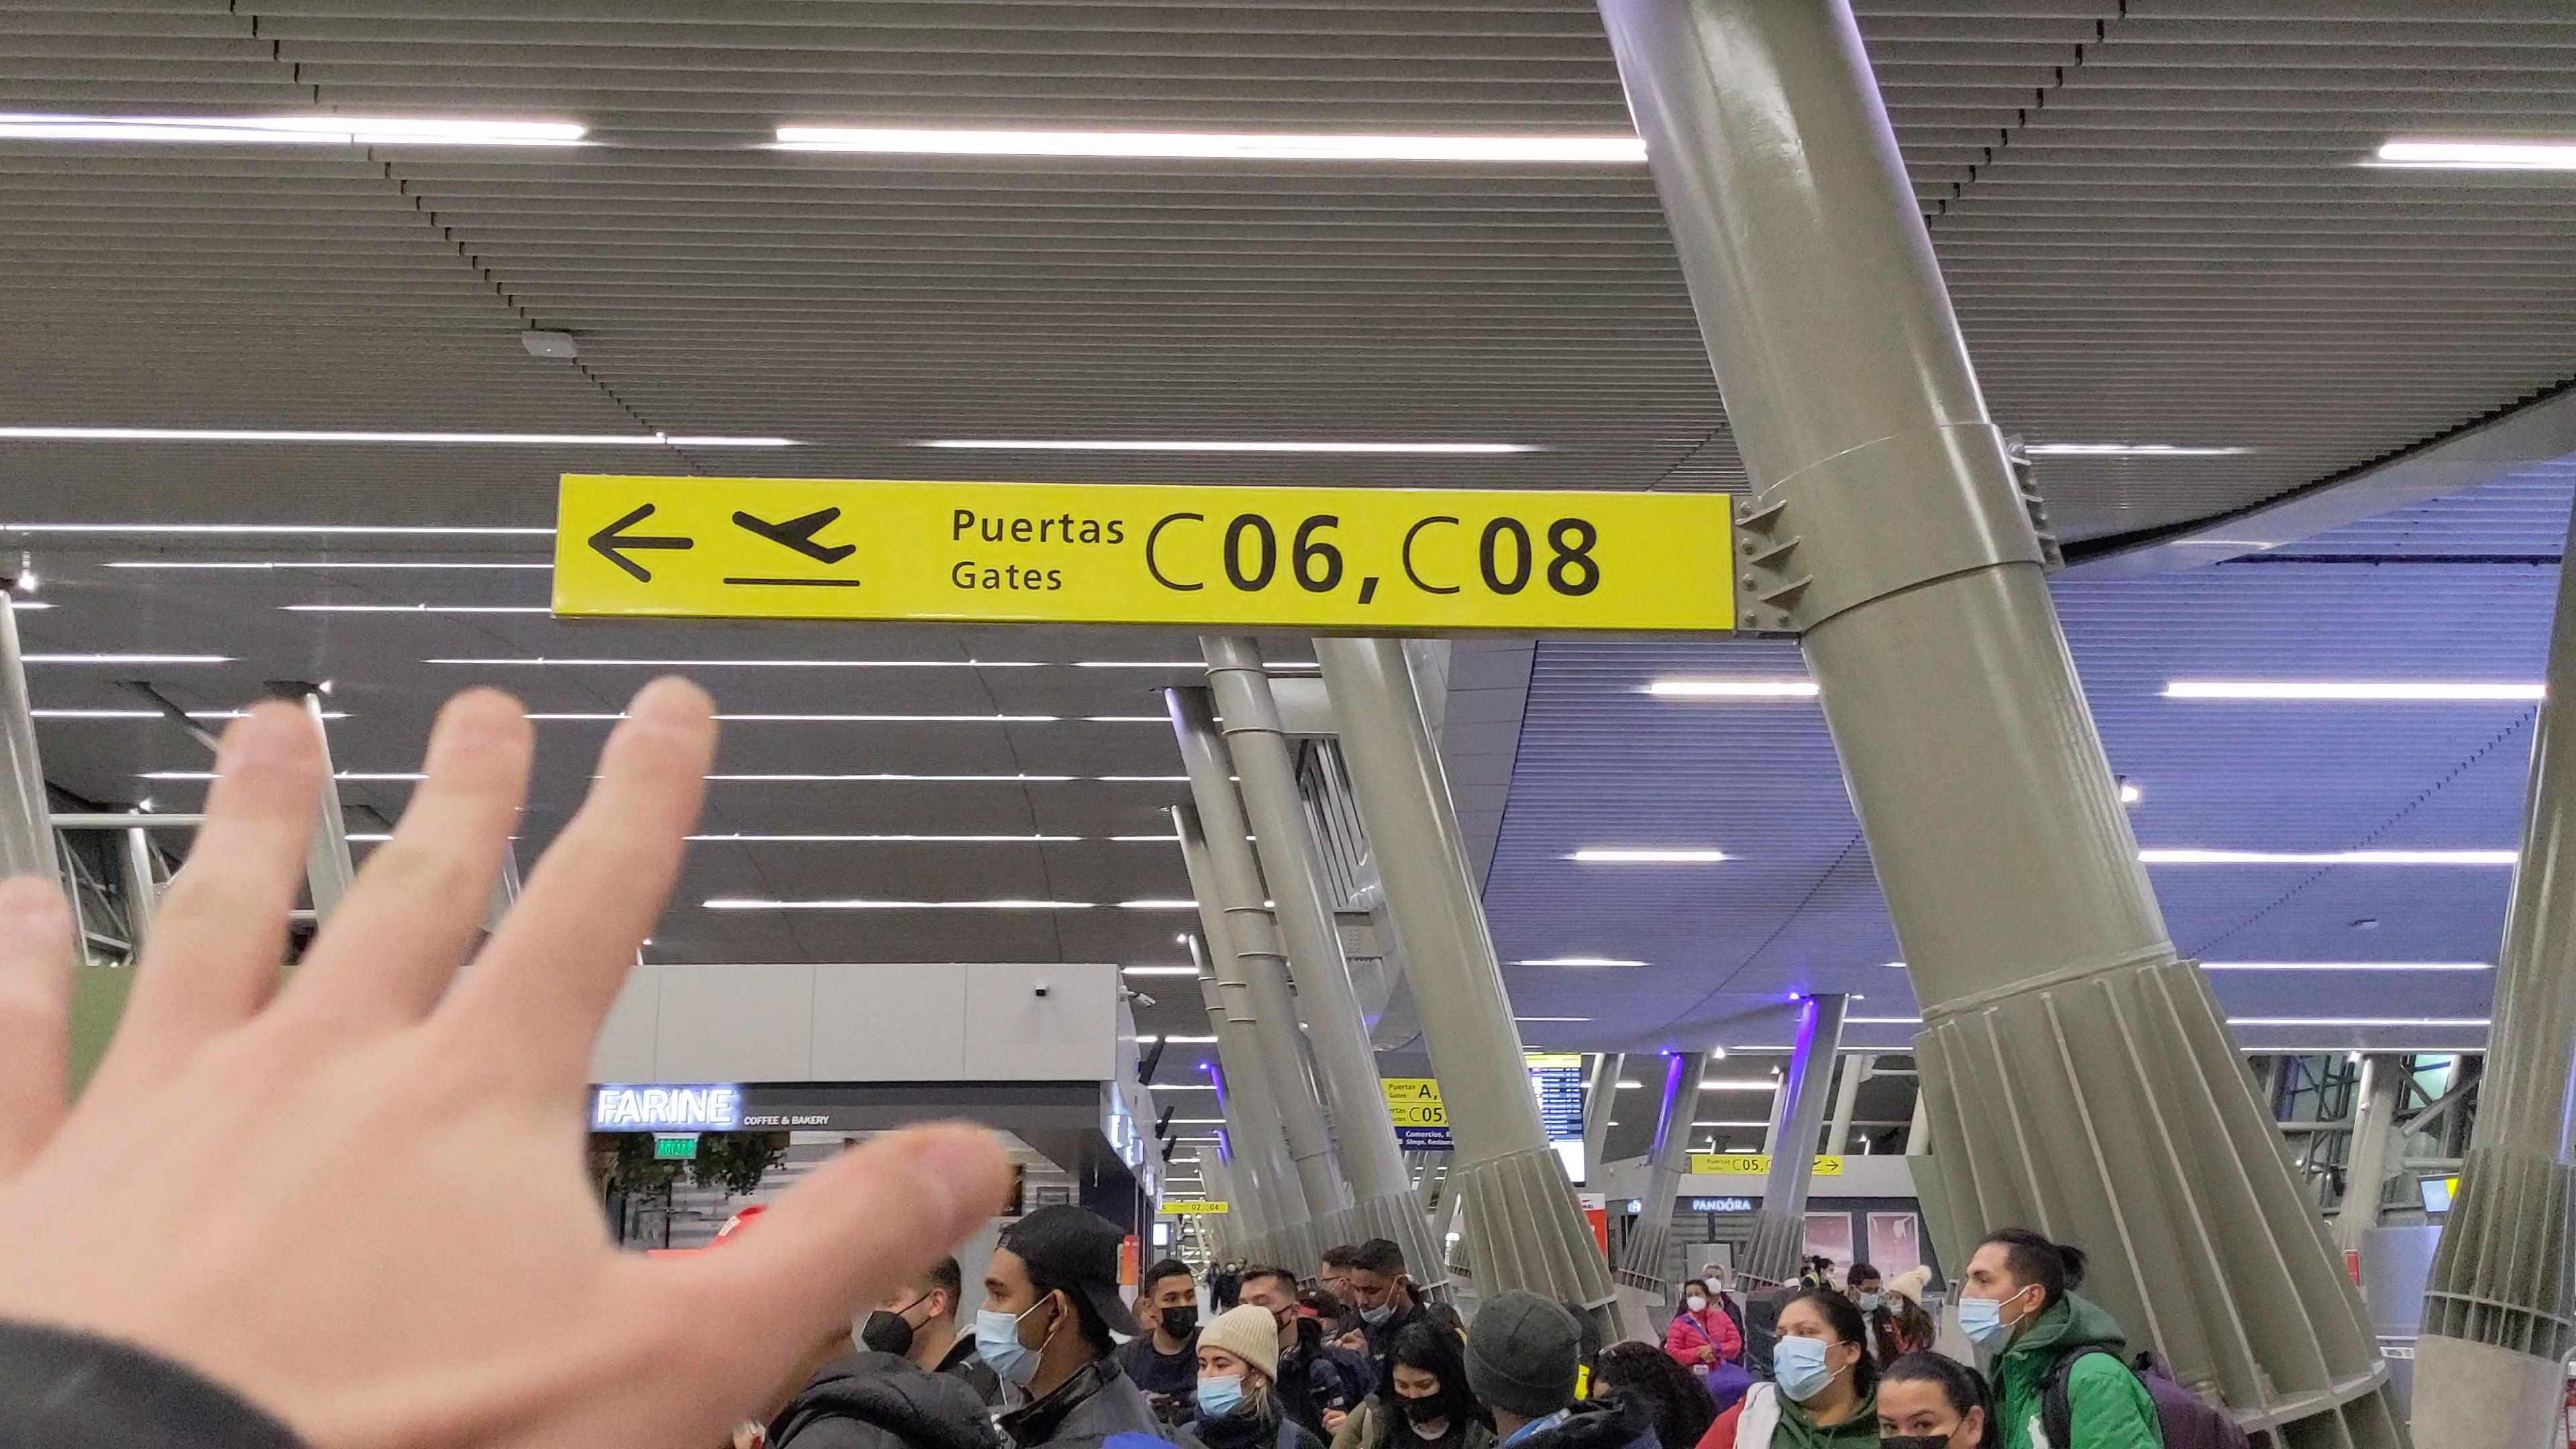airplane symbol: (729, 504, 860, 568)
thin left arrow: (586, 501, 694, 586)
